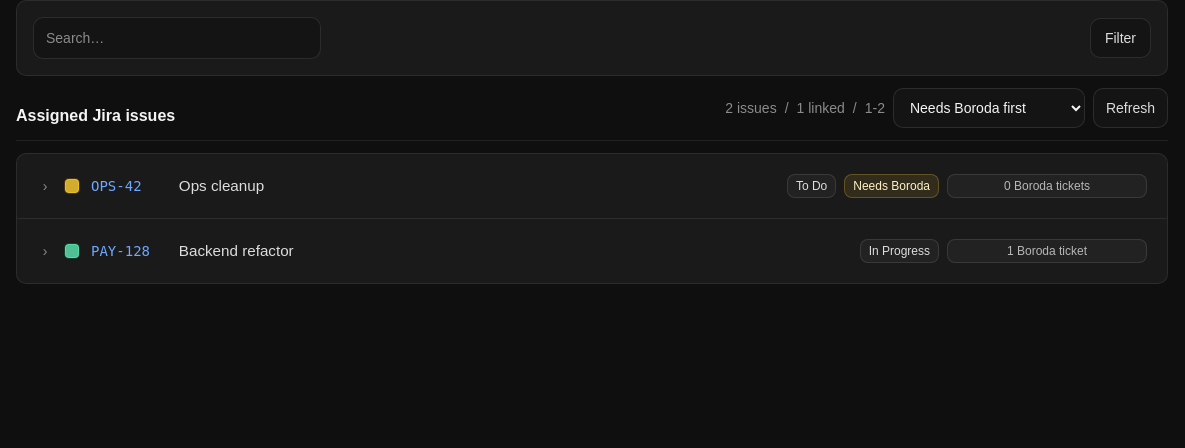
it: JiraPage › shows Boroda links when a Jira issue is expanded
The image size is (1185, 448).
Click the button with aria-label "Show links for PAY-128".
click(236, 250)  # box [33,235,1151,267]
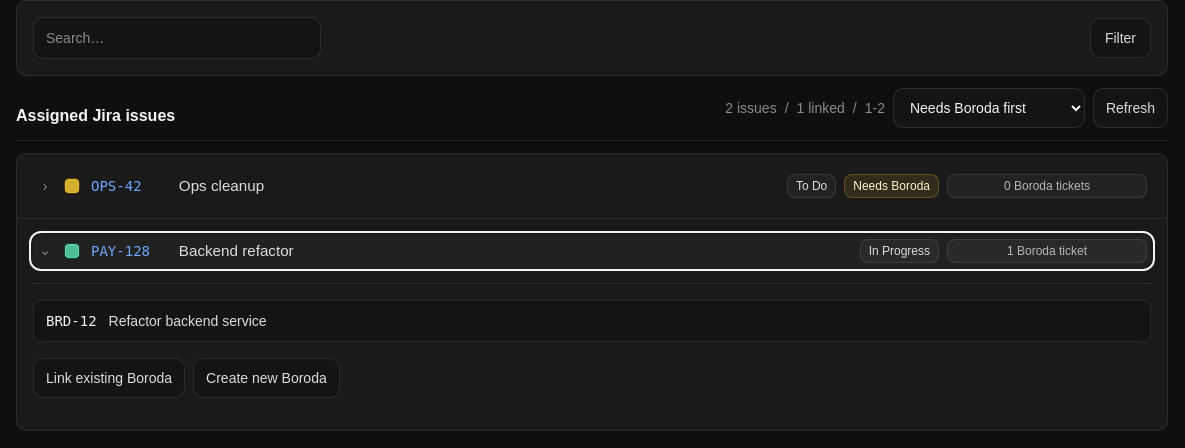
Check: the button "Create new Boroda" is shown, box [193,358,340,398]
